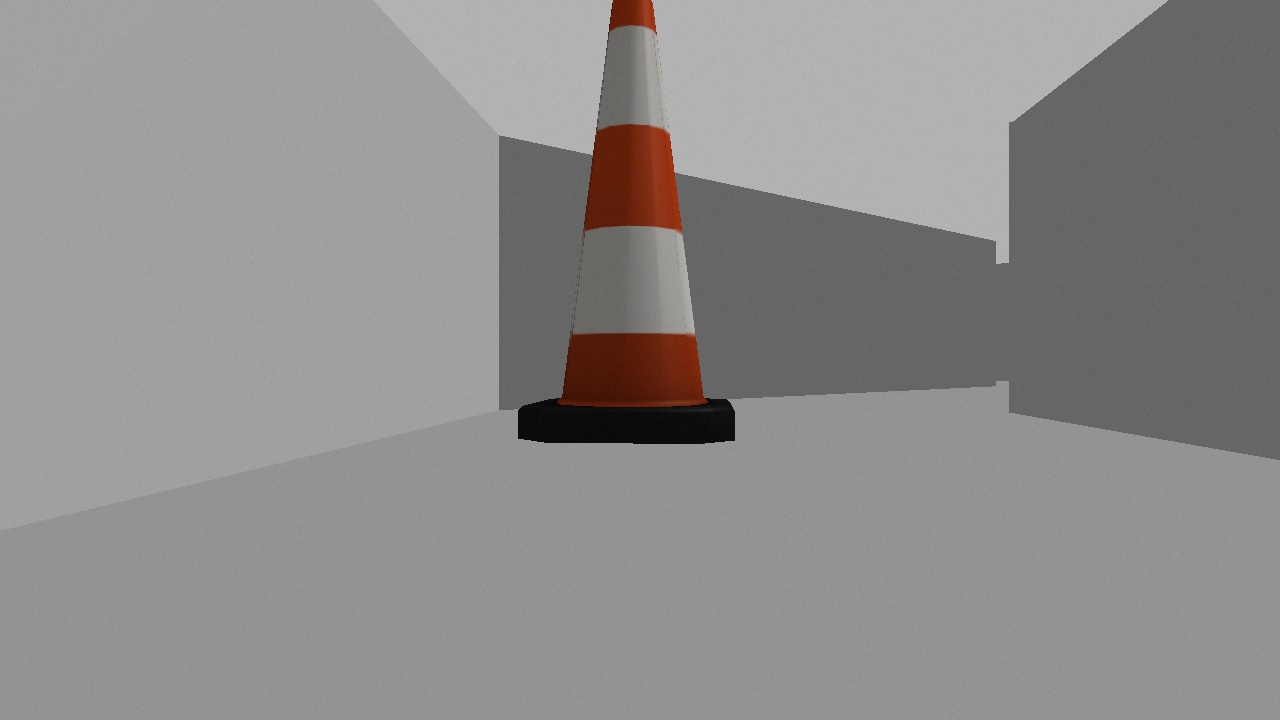barricade: (499, 1, 766, 456)
